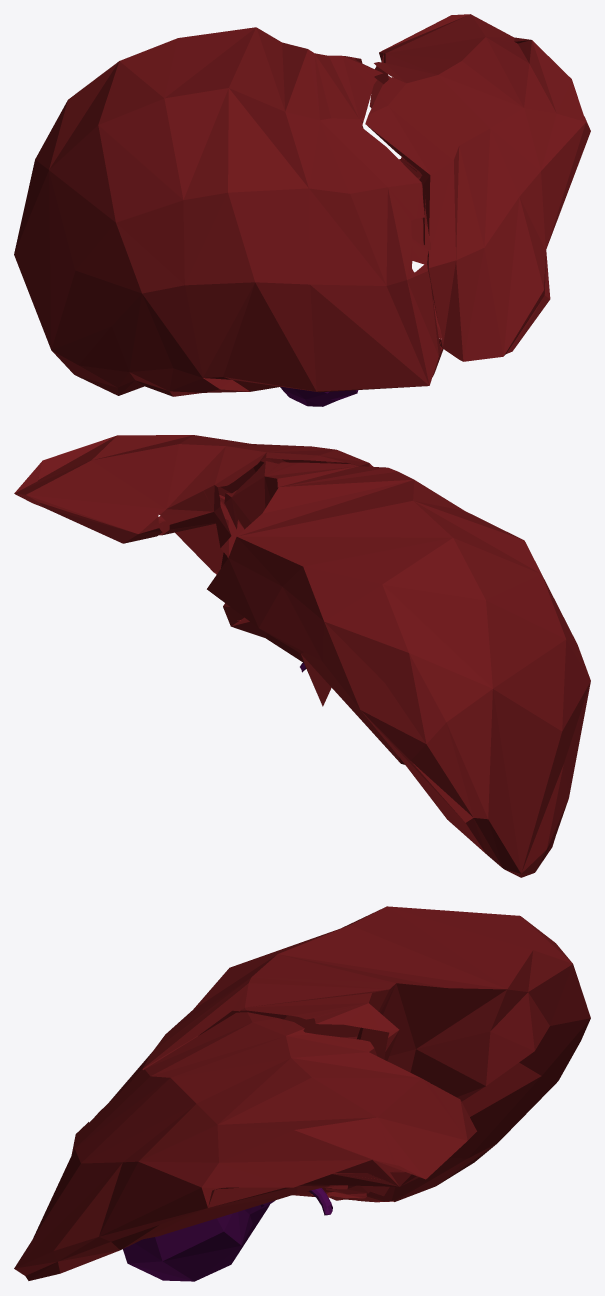
Rendered from liver gall.gltf.
3 renders of one model, top to bottom at view 1: azimuth 30°, elevation 25°; view 2: azimuth 150°, elevation 25°; view 3: azimuth 270°, elevation 25°, orthographic. The views are drawn at different scales.
Parts seen in each view (by area): view 1: node_id32, node_id32.003; view 2: node_id32; view 3: node_id32, node_id32.003.
Part boxes in pixels (x1,y1,x2,y2): node_id32: (14, 14, 590, 396); node_id32.003: (280, 387, 358, 406); node_id32: (14, 435, 590, 877); node_id32: (14, 906, 590, 1280); node_id32.003: (123, 1188, 332, 1281).
Size of the model in its own units: 2.21 by 1.27 by 1.9.
